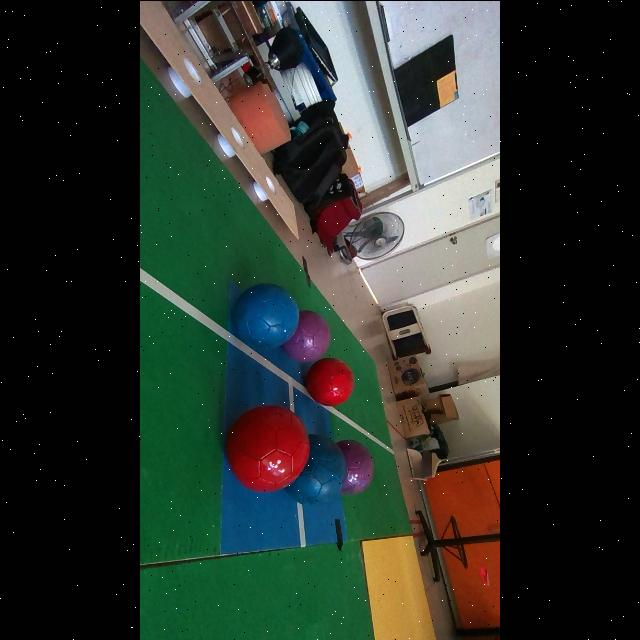B: (286, 434, 347, 504), (232, 282, 298, 345)
P: (282, 310, 331, 362), (336, 439, 374, 494)
R: (227, 405, 309, 491), (306, 357, 355, 405)
